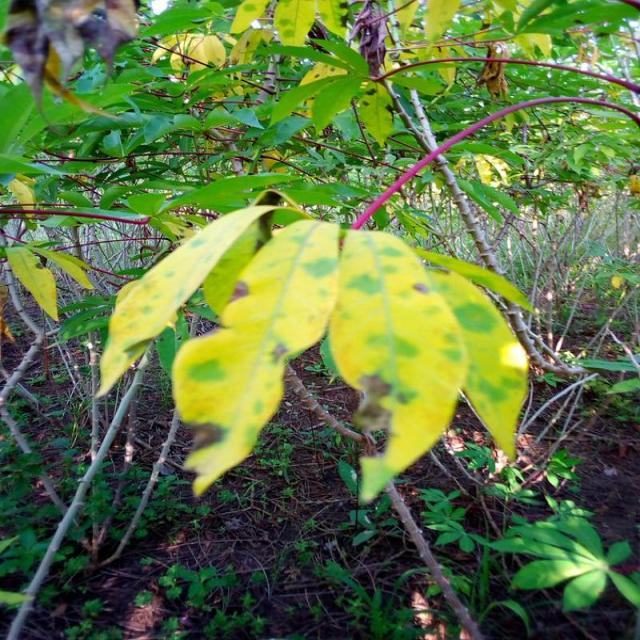cassava leaf: (169, 216, 529, 504), (170, 217, 342, 497), (93, 202, 309, 399), (324, 227, 469, 505)
